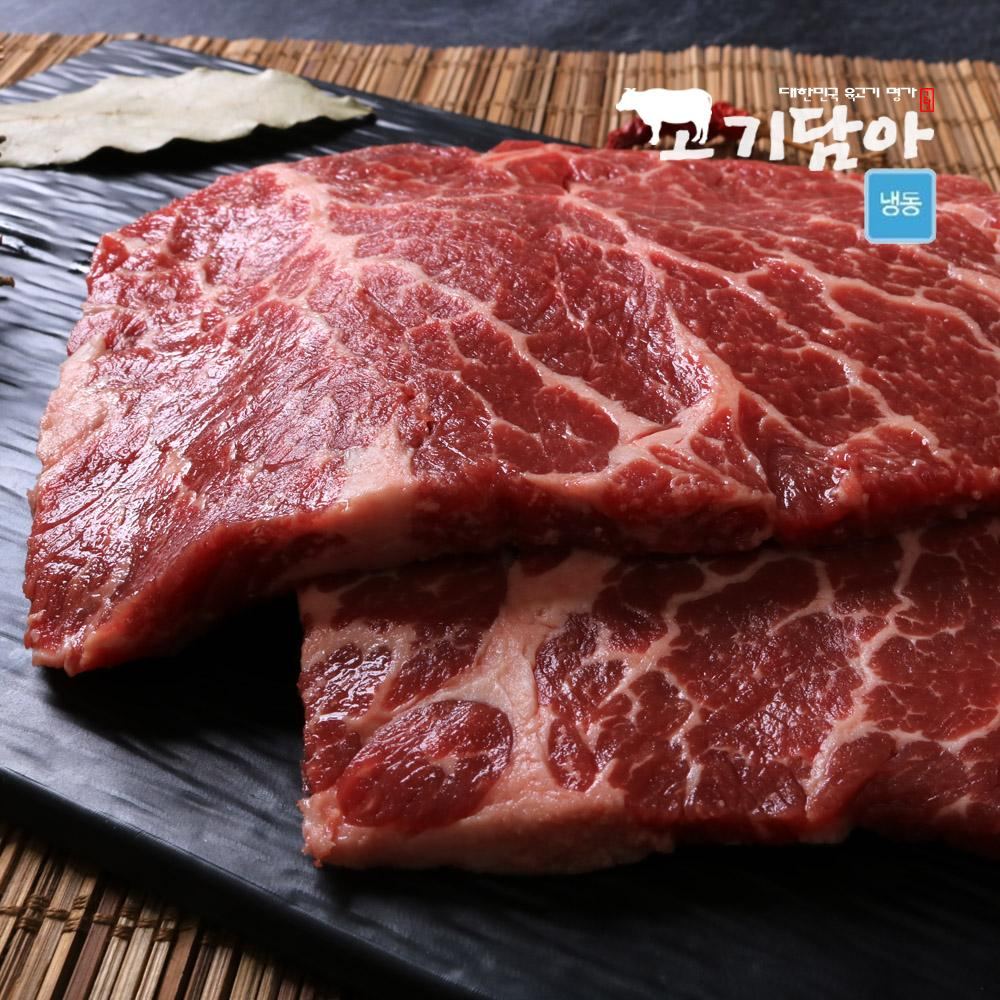beef: (191, 348, 1000, 819), (534, 824, 1000, 1000)
